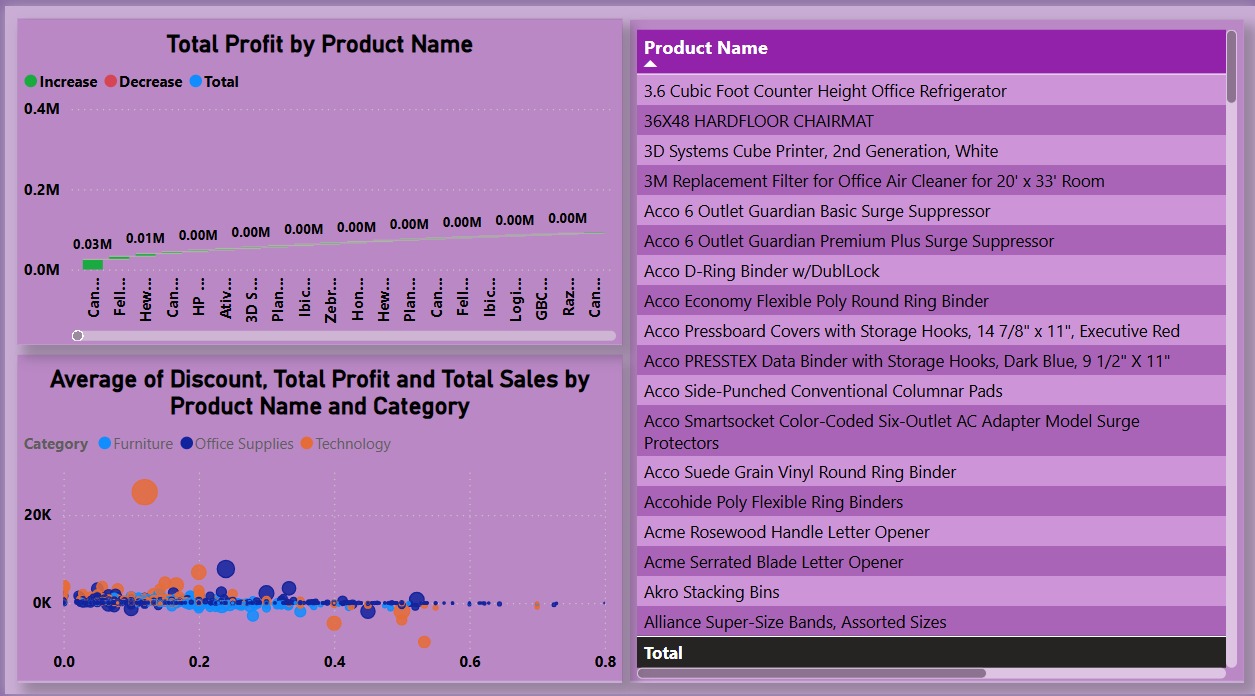

The dashboard page shown, as its layout file describes it:
{"tool":"powerbi","page":{"name":"Discount","canvas":[1000,550],"ordinal":2},"visuals":[{"type":"shape","box":[10,278.8,483.8,261.2],"z":0},{"type":"shape","box":[10,10,483.8,261.2],"z":1000},{"type":"shape","box":[500,11.2,491.2,528.8],"z":2000},{"type":"waterfallChart","fields":{"Category":["Sample - Superstore.Product Name"],"Y":["Sample - Superstore.Total Profit"]},"box":[10,11,484,260],"z":3000},{"type":"scatterChart","fields":{"X":["Avg(Sample - Superstore.Discount)"],"Y":["Sample - Superstore.Total Profit"],"Category":["Sample - Superstore.Product Name"],"Series":["Sample - Superstore.Category"],"Size":["Sample - Superstore.Total Sales"]},"box":[10,279.2,484.2,261.7],"z":4000},{"type":"tableEx","fields":{"Values":["Sample - Superstore.Product Name","Sample - Superstore.Total Profit","Sample - Superstore.Total Sales","Avg(Sample - Superstore.Discount)"]},"box":[500,11.1,491.1,530],"z":5000}]}

Visuals, with their boxes in screenshot pixels (x1, y1, x2, y2), scaled from the page's 1000x550 canvas onto the 1255x696 screenshot:
shape: rect(13, 353, 620, 683)
shape: rect(13, 13, 620, 343)
shape: rect(628, 14, 1244, 683)
waterfallChart - Sample - Superstore.Product Name x Sample - Superstore.Total Profit: rect(13, 14, 620, 343)
scatterChart - Avg(Sample - Superstore.Discount) x Sample - Superstore.Total Profit: rect(13, 353, 620, 684)
tableEx - Sample - Superstore.Product Name x Sample - Superstore.Total Profit: rect(628, 14, 1244, 685)
